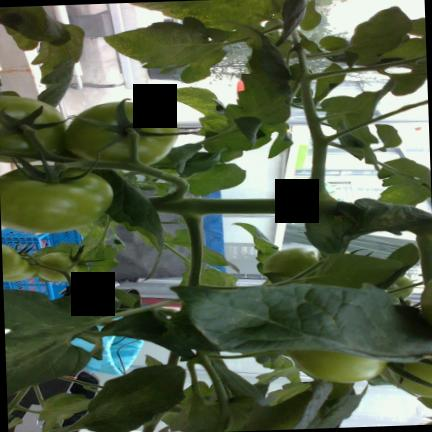6kp_peduncle: (127, 163, 211, 215)
6kp_petiole: (146, 197, 249, 282), (260, 145, 342, 216)
MainStem: (147, 195, 343, 216)
tomato: (0, 169, 113, 233), (65, 101, 178, 165), (0, 96, 65, 162), (288, 350, 386, 382), (263, 248, 318, 277), (38, 252, 87, 281), (2, 245, 27, 277), (401, 379, 432, 398), (404, 362, 432, 383), (420, 278, 432, 326), (387, 276, 412, 299), (3, 266, 38, 282)
